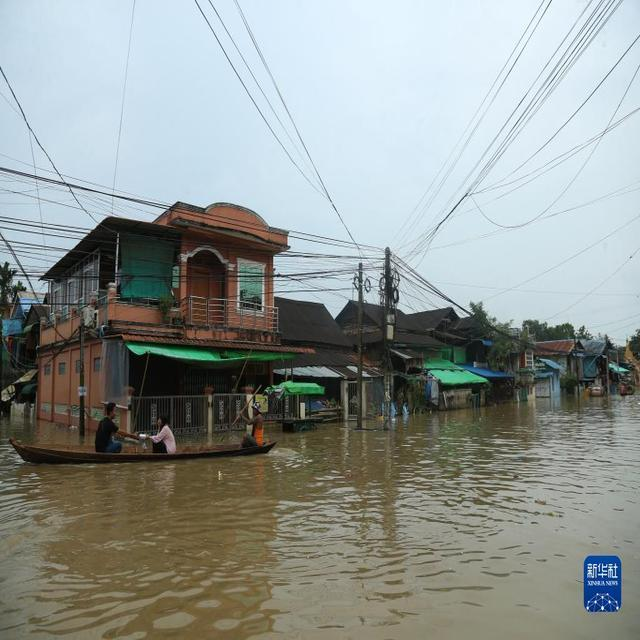Person-RiskLevel3: (84, 389, 132, 456), (131, 403, 188, 459), (234, 389, 275, 452)
